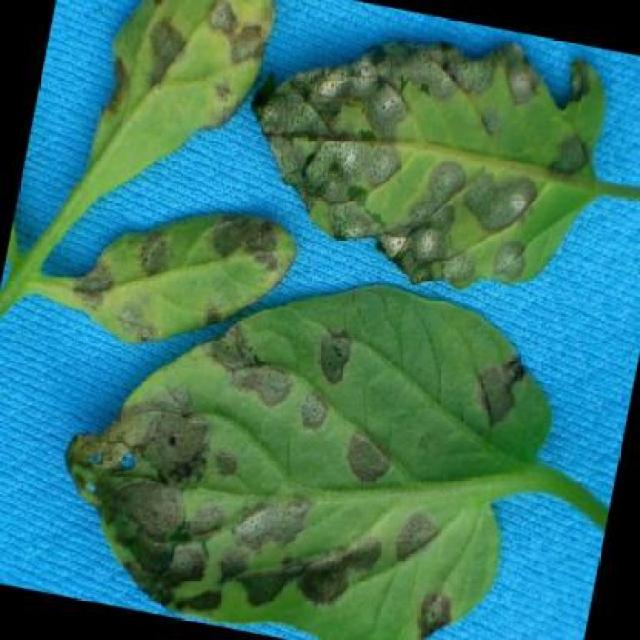Septoria leaf spot: (31, 226, 589, 639), (211, 0, 640, 328), (69, 0, 274, 248), (60, 178, 309, 377)
